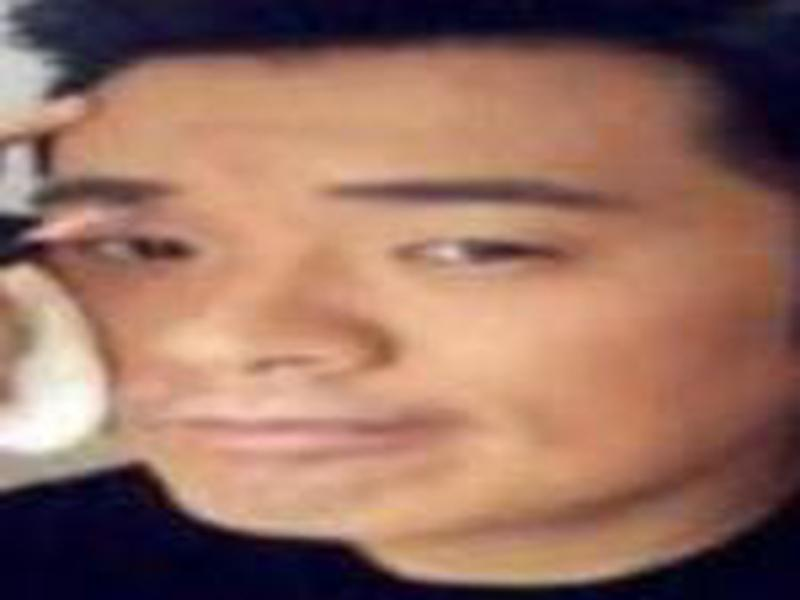without_mask: (37, 134, 795, 542)
